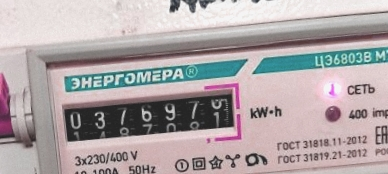0: (68, 109, 83, 130)
1: (211, 109, 223, 128)
3: (92, 108, 107, 130)
6: (138, 100, 153, 123)
7: (114, 104, 130, 126), (186, 97, 200, 121)
9: (162, 100, 176, 122)
screen: (53, 77, 249, 159)
